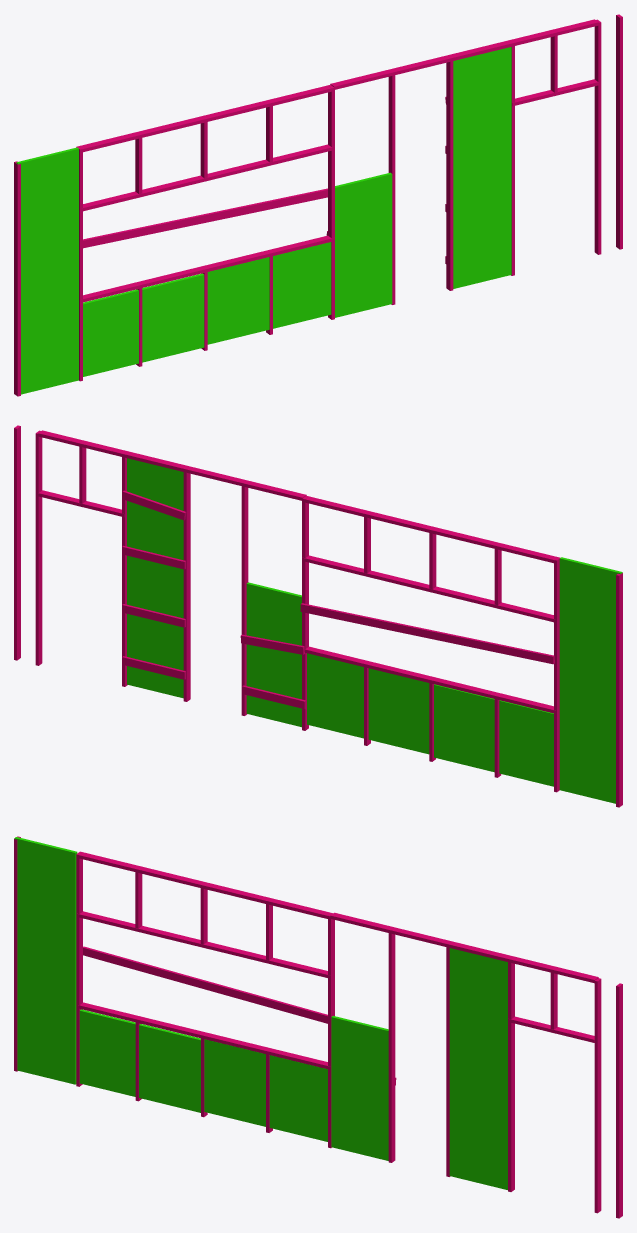
The model's file is BH05B_Wall_Int_02_Break_B.fbx.
3 views of the same model, one above another, from view 1: azimuth 30°, elevation 25°; view 2: azimuth 150°, elevation 25°; view 3: azimuth 330°, elevation 25° (orthographic).
Visible parts, largest first — view 1: BH05B_Wall_Int_02_Break_B; view 2: BH05B_Wall_Int_02_Break_B; view 3: BH05B_Wall_Int_02_Break_B.
Part boxes in pixels (<box>): BH05B_Wall_Int_02_Break_B: <box>14,14,622,396</box>; BH05B_Wall_Int_02_Break_B: <box>14,425,622,807</box>; BH05B_Wall_Int_02_Break_B: <box>14,836,622,1218</box>.
Size of the model in its own units: 820 by 301 by 12.91.
